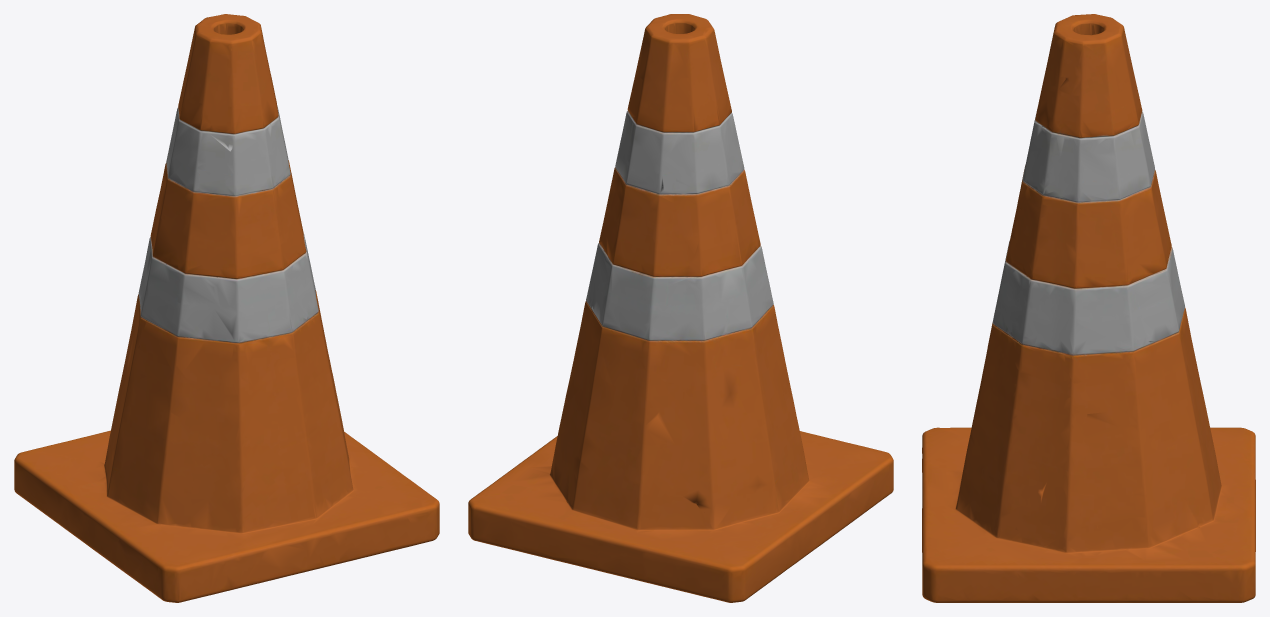
File: traffic_cone.glb
3 views of the same model, side by side, from view 1: azimuth 30°, elevation 25°; view 2: azimuth 150°, elevation 25°; view 3: azimuth 270°, elevation 25° (orthographic). The views are drawn at different scales.
Parts seen in each view (by area): view 1: geometry_0; view 2: geometry_0; view 3: geometry_0.
Boxes of the visible parts, x1=… form: geometry_0: x1=14, y1=14, x2=439, y2=602; geometry_0: x1=468, y1=14, x2=893, y2=602; geometry_0: x1=922, y1=14, x2=1255, y2=602.
Bounding box in the file's own units: 0.3571 × 0.6 × 0.3578.
Materials: 1 (1 with a texture image).
